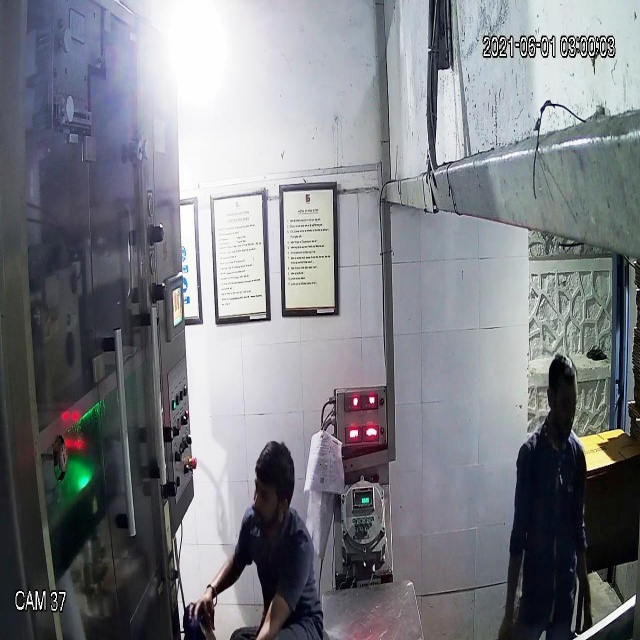Sin_gafas: (249, 476, 288, 512)
